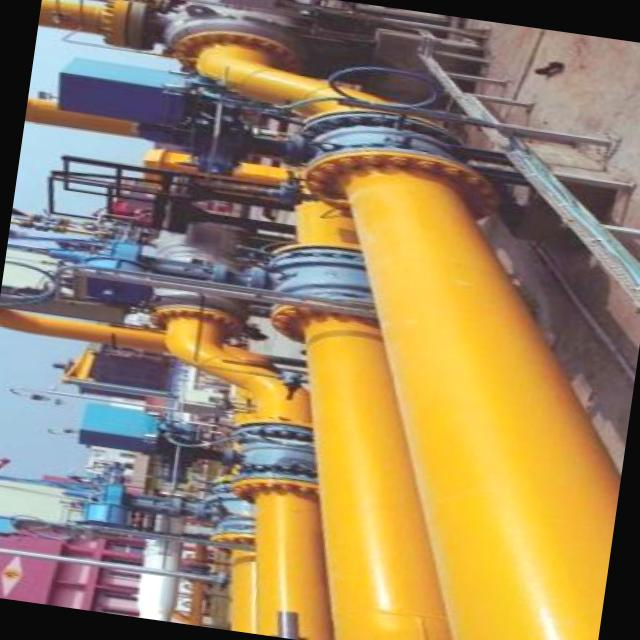gas: (198, 43, 619, 640), (289, 188, 446, 640), (166, 304, 327, 640), (0, 305, 164, 349), (25, 95, 144, 139), (222, 499, 254, 634), (39, 0, 138, 38)
